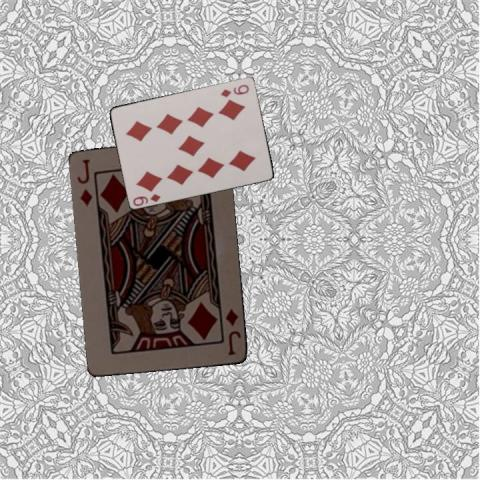9d: (217, 81, 251, 99), (130, 190, 162, 206)
Jd: (222, 306, 243, 357), (74, 157, 95, 208)
